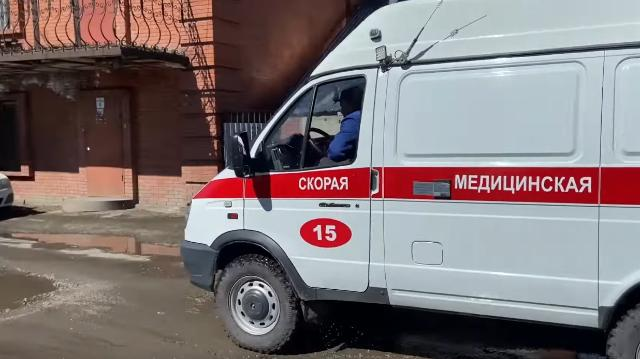ambulance: (183, 2, 640, 357)
